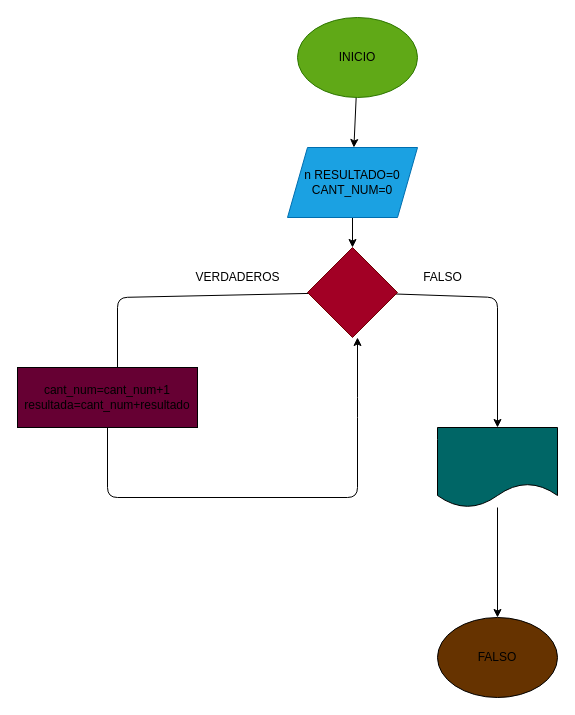
Image size: 575x715. Some labels were removed from this diagram. The shapes that lost their labels are listed below. From the top down, each one's box as (x1, y1, x2, y2) in pixels, then its label:
(306, 246, 398, 338): CANT_NUM<n
(436, 426, 558, 508): RESULTADO
